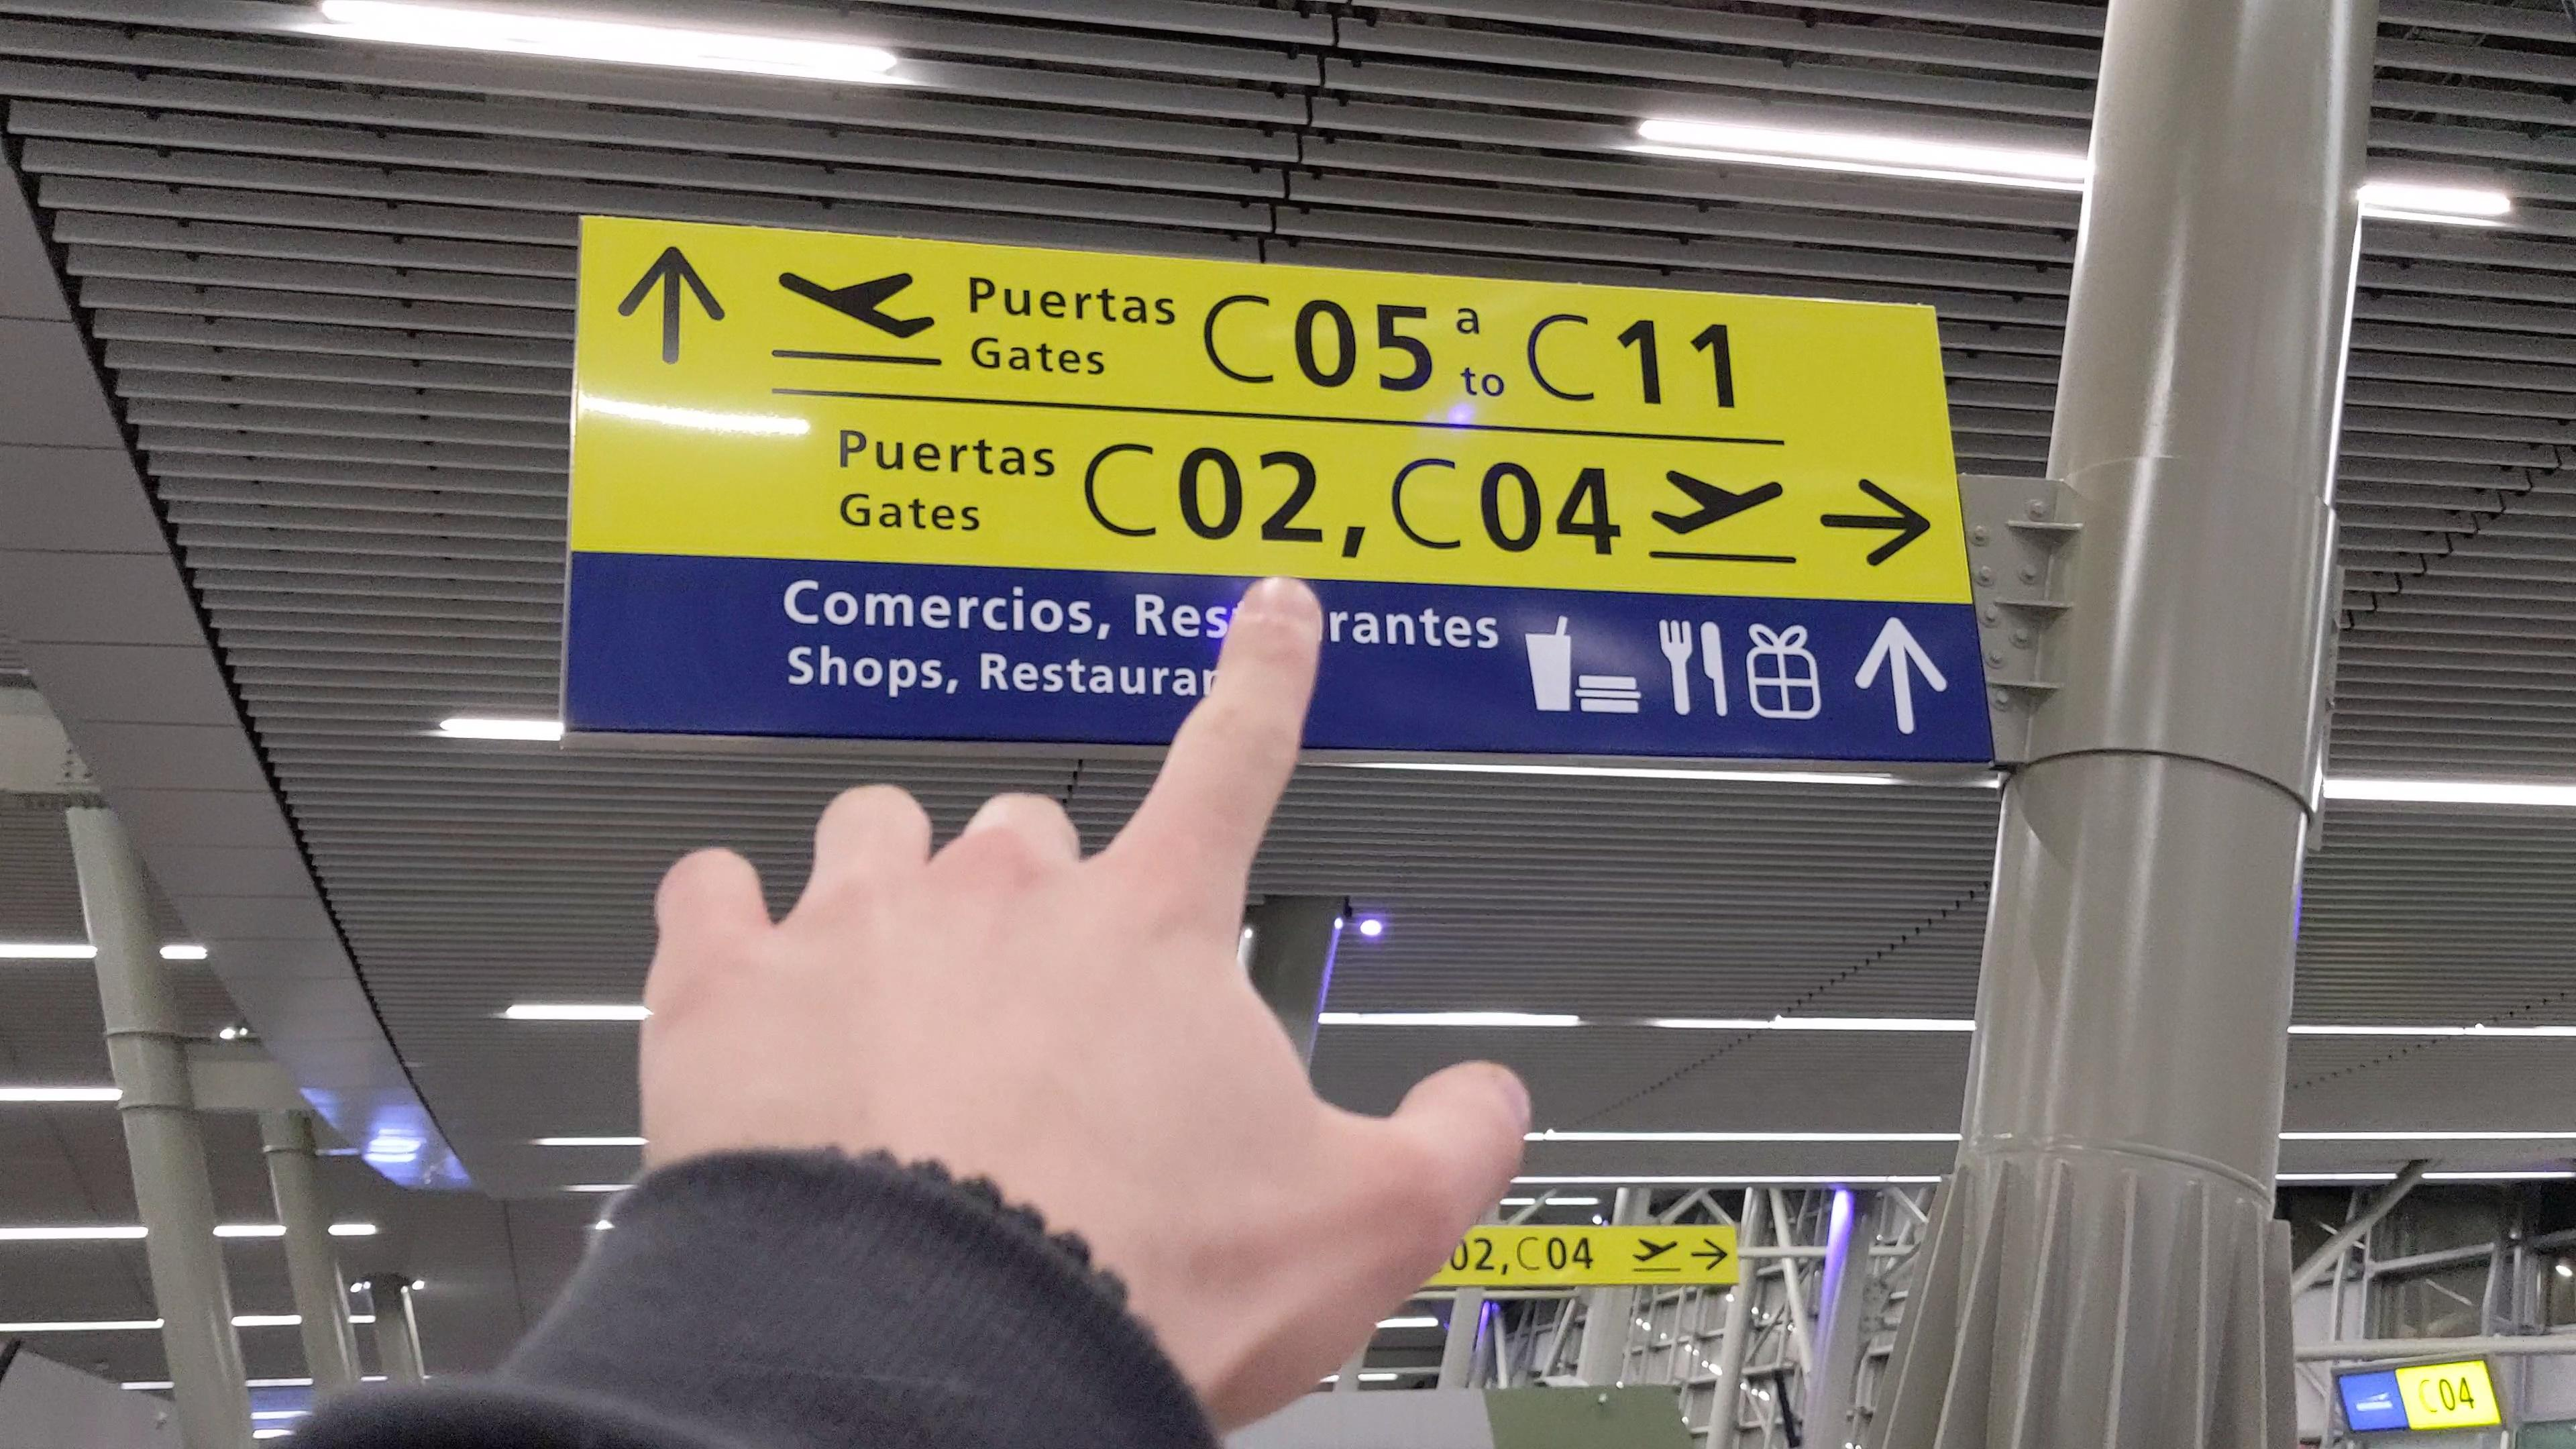airplane symbol: (775, 264, 939, 345), (1651, 467, 1785, 538), (1631, 1237, 1683, 1263)
restaurants: (1658, 616, 1734, 720)
thin right arrow: (1819, 474, 1936, 571), (1688, 1235, 1730, 1274)
thin up arrow: (616, 242, 729, 370), (1851, 612, 1951, 738)
